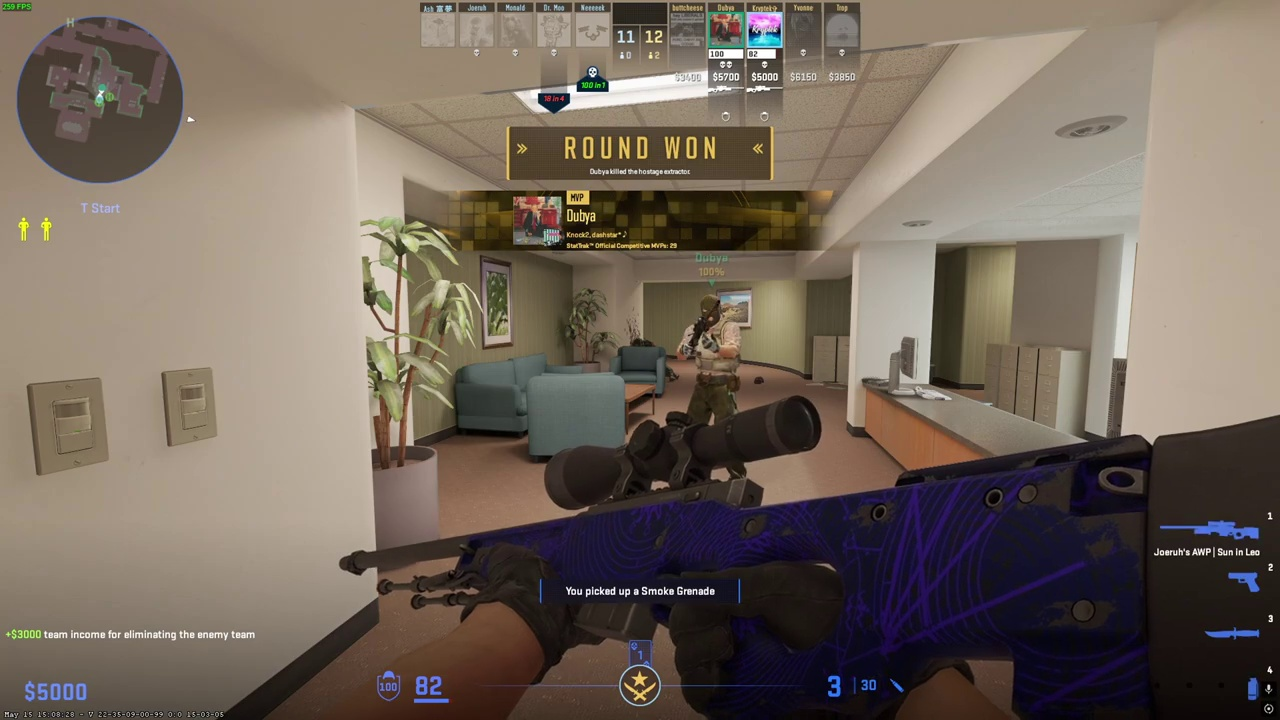Terrorist: (682, 294, 747, 483)
